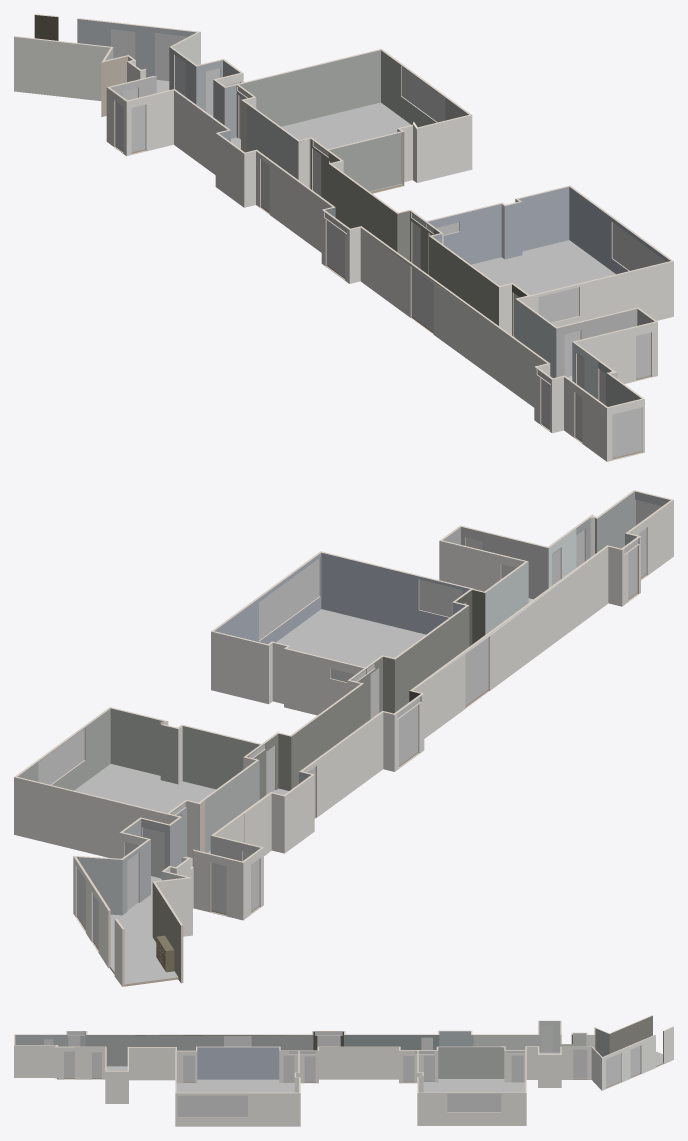
Rendered from WholeCorridor.fbx.
3 renders of one model, top to bottom at view 1: azimuth 30°, elevation 25°; view 2: azimuth 150°, elevation 25°; view 3: azimuth 270°, elevation 25°, orthographic. The views are drawn at different scales.
Visible parts, largest first — view 1: wall_3.002, wall_30, wall_34.004, wall_23.001, floor_Dining Room_0.001, floor_Dining Room_0, wall_17.002, wall_3, wall_43.001, wall_24, wall_59, wall_28.001 (+29 smaller); view 2: wall_3.002, wall_9, wall_23.001, floor_Dining Room_0.001, wall_17.002, floor_Dining Room_0, wall_4.001, wall_59, wall_6.001, wall_24, wall_43.001, floor_Other_2.002 (+32 smaller); view 3: wall_33.002, wall_11.001, wall_40, wall_7, wall_8.002, wall_32, wall_7.002, window_1, floor_Dining Room_0.001, wall_14.003, floor_Dining Room_0, wall_61 (+39 smaller).
Boxes of the visible parts, left/top/right/bottom form: wall_3.002: left=360, top=228, right=546, bottom=407; wall_30: left=239, top=50, right=380, bottom=126; wall_34.004: left=14, top=37, right=110, bottom=100; wall_23.001: left=528, top=261, right=673, bottom=326; floor_Dining Room_0.001: left=471, top=240, right=615, bottom=295; floor_Dining Room_0: left=281, top=102, right=410, bottom=191; wall_17.002: left=256, top=151, right=331, bottom=252; wall_3: left=417, top=115, right=472, bottom=182; wall_43.001: left=328, top=164, right=397, bottom=251; wall_24: left=329, top=132, right=401, bottom=191; wall_59: left=429, top=236, right=498, bottom=325; wall_28.001: left=426, top=204, right=501, bottom=264; wall_3.002: left=413, top=547, right=608, bottom=738; wall_9: left=14, top=777, right=166, bottom=858; wall_23.001: left=321, top=551, right=473, bottom=634; floor_Dining Room_0.001: left=276, top=609, right=425, bottom=667; wall_17.002: left=302, top=712, right=383, bottom=818; floor_Dining Room_0: left=74, top=764, right=215, bottom=813; wall_4.001: left=211, top=631, right=268, bottom=704; wall_59: left=395, top=605, right=469, bottom=712; wall_6.001: left=284, top=649, right=363, bottom=715; wall_24: left=182, top=726, right=259, bottom=789; wall_43.001: left=291, top=684, right=363, bottom=789; floor_Other_2.002: left=110, top=902, right=177, bottom=984; wall_33.002: left=86, top=1035, right=313, bottom=1066; wall_11.001: left=175, top=1093, right=300, bottom=1126; wall_40: left=197, top=1047, right=279, bottom=1079; wall_7: left=417, top=1093, right=526, bottom=1125; wall_8.002: left=319, top=1047, right=398, bottom=1079; wall_32: left=438, top=1047, right=504, bottom=1078; wall_7.002: left=129, top=1047, right=175, bottom=1080; window_1: left=177, top=1095, right=247, bottom=1117; floor_Dining Room_0.001: left=176, top=1079, right=294, bottom=1092; wall_14.003: left=14, top=1045, right=55, bottom=1077; floor_Dining Room_0: left=423, top=1079, right=525, bottom=1092; wall_61: left=344, top=1035, right=439, bottom=1049.
Size of the model in its own units: 1336 by 4775 by 280.
